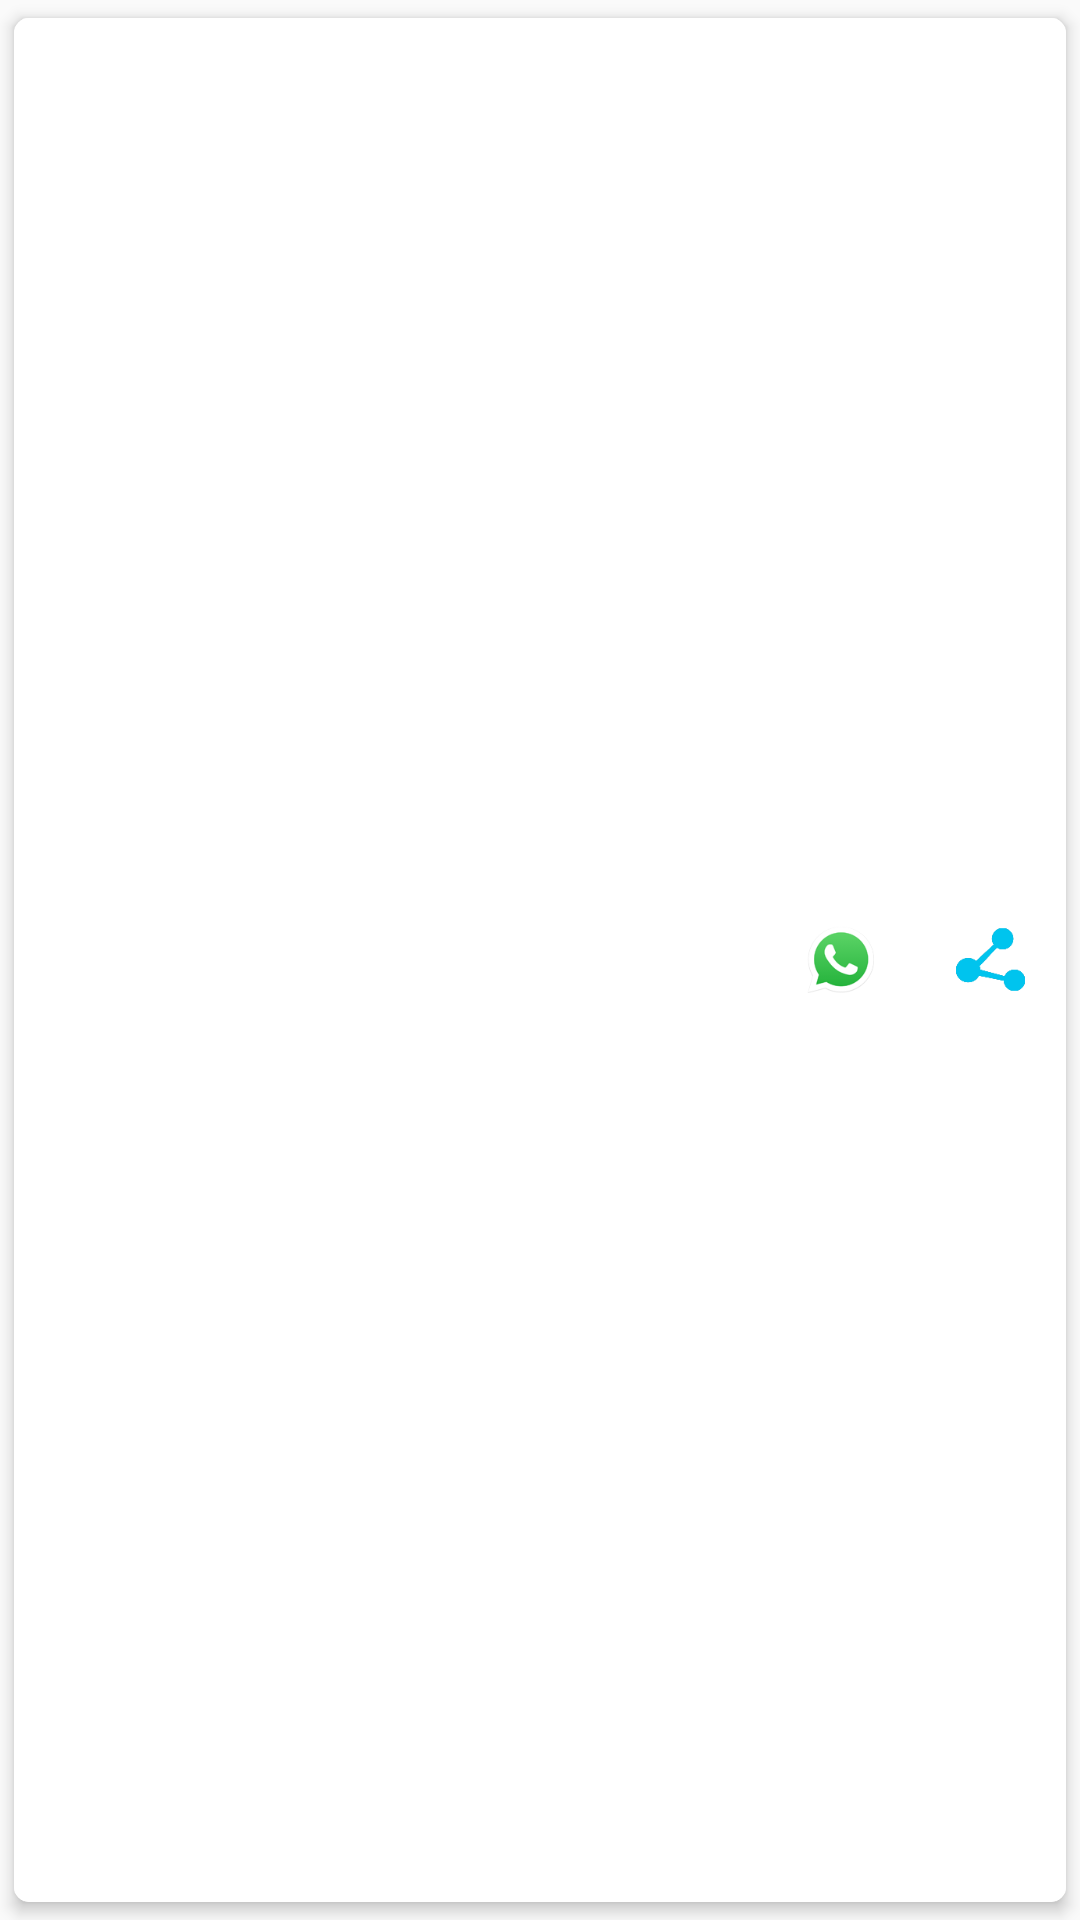

Where to tap for icons on this 1080 x 1920 app screen, as point (x, y):
share: point (990, 959)
